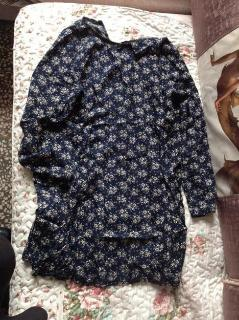long sleeve dress: (17, 16, 217, 288)
